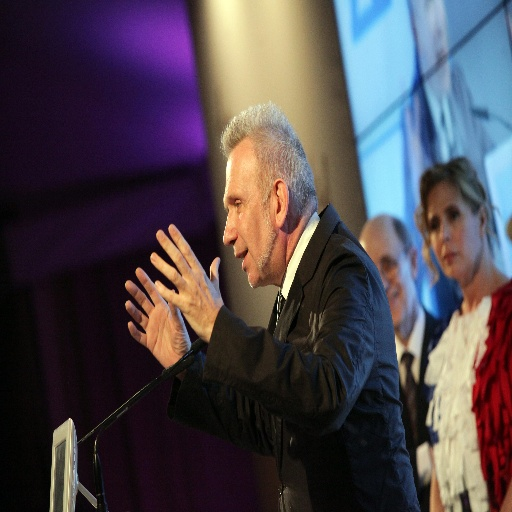hand: (123, 265, 193, 373)
